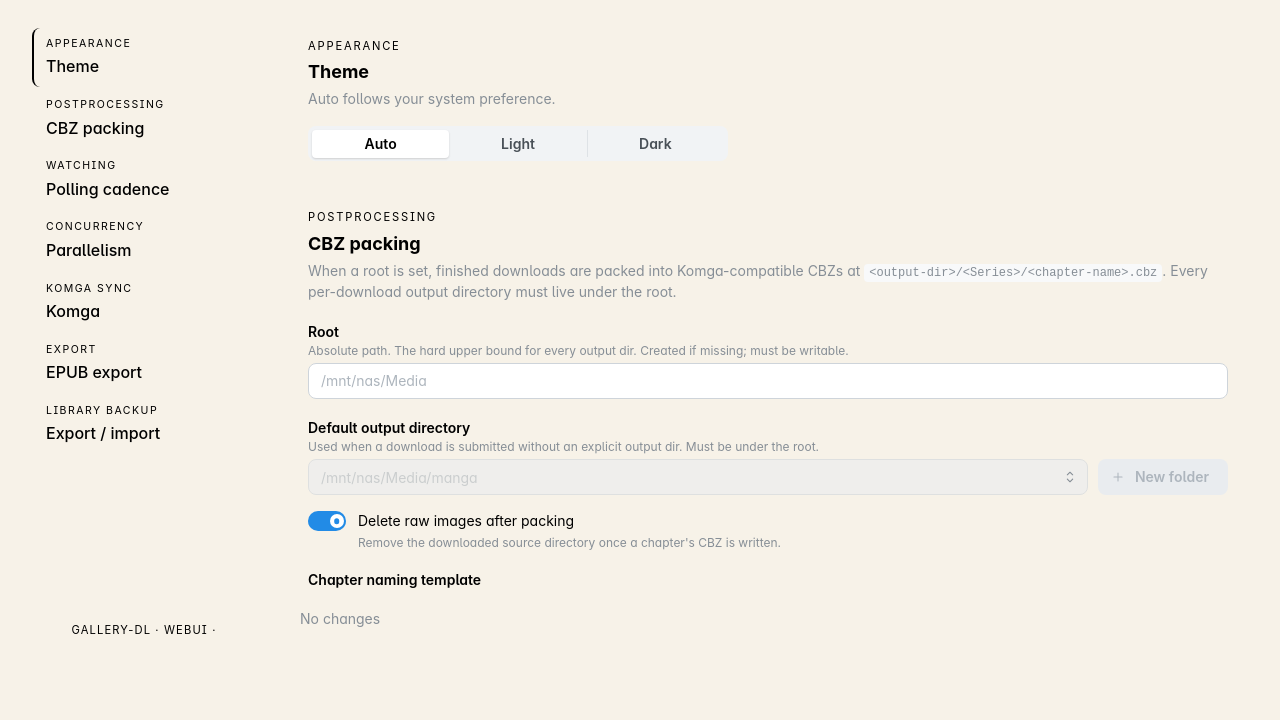
Test case: ConfigPanel › keeps unsaved edits when a config refetch lands
In the field labelled "Root": (768, 381) [308,363,1228,399], type "/mnt/nas/Drafting"
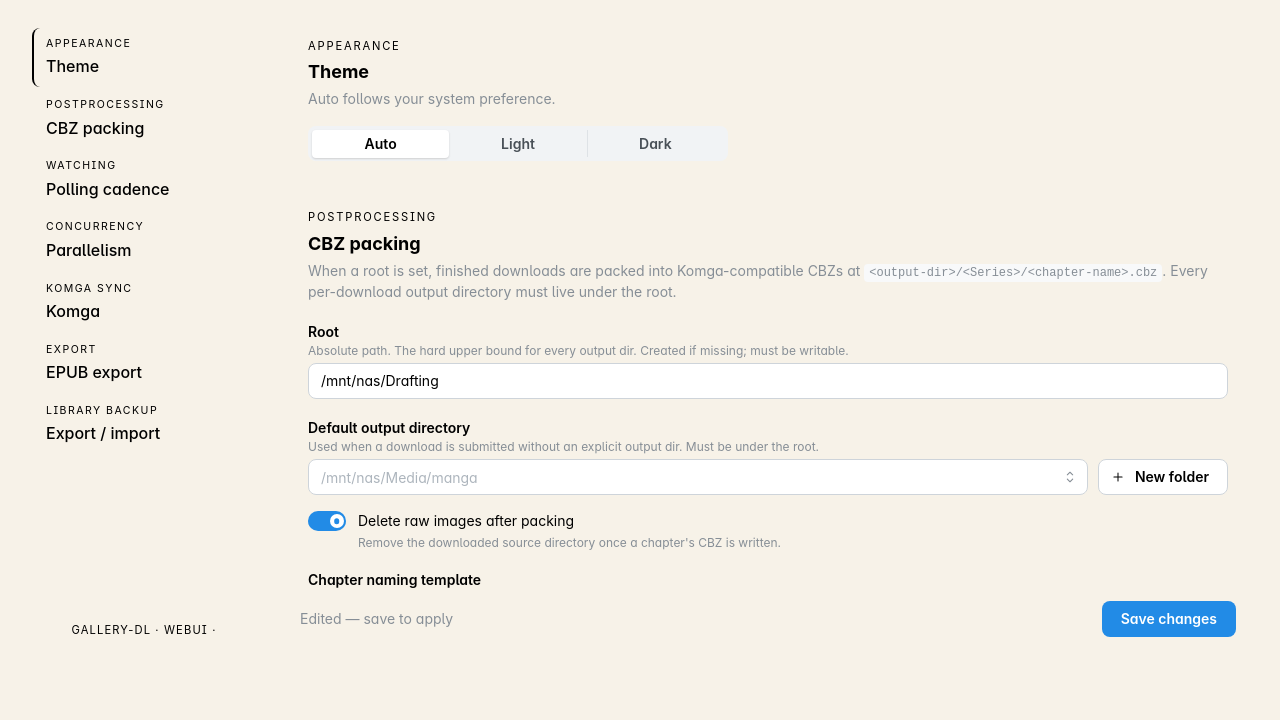
Expected: the button "Save changes" is shown, [1102,601,1236,637]
